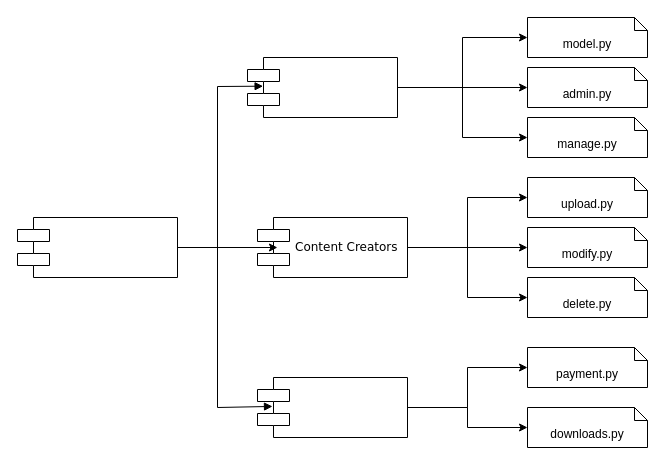
This 665x465 diagram has some shape labels left out. Each missing label, with the centre of its shape:
"Admin" belongs at point (322, 87).
"ARR WALLPAPERS" belongs at point (97, 247).
"Premium Users" belongs at point (332, 407).
